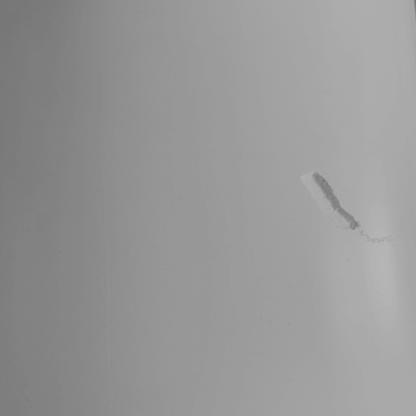sunshang: (305, 174, 361, 232)
